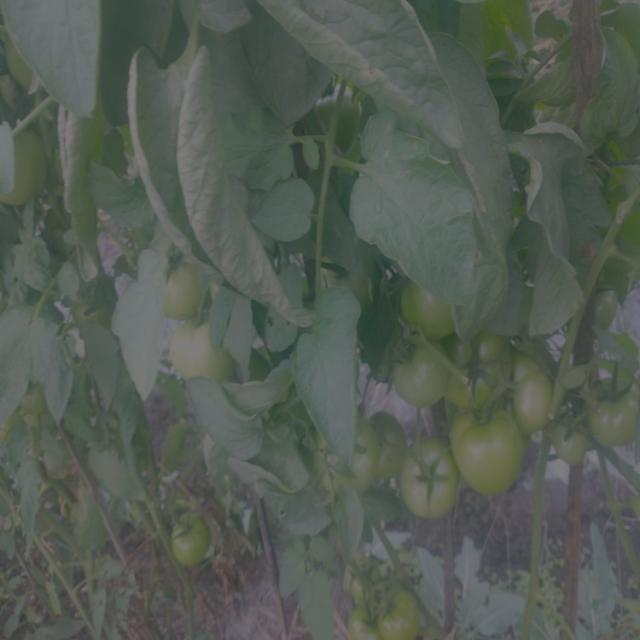tomato: (452, 411, 530, 499), (400, 444, 460, 522), (454, 331, 512, 411), (400, 274, 467, 342), (388, 340, 451, 411), (313, 424, 376, 493), (4, 128, 52, 215), (173, 321, 236, 386), (163, 248, 215, 325), (589, 372, 640, 449), (511, 353, 560, 433), (170, 509, 213, 572), (553, 415, 591, 467), (382, 592, 422, 640), (375, 418, 405, 478), (592, 289, 623, 340), (352, 563, 385, 605), (351, 607, 385, 640)
